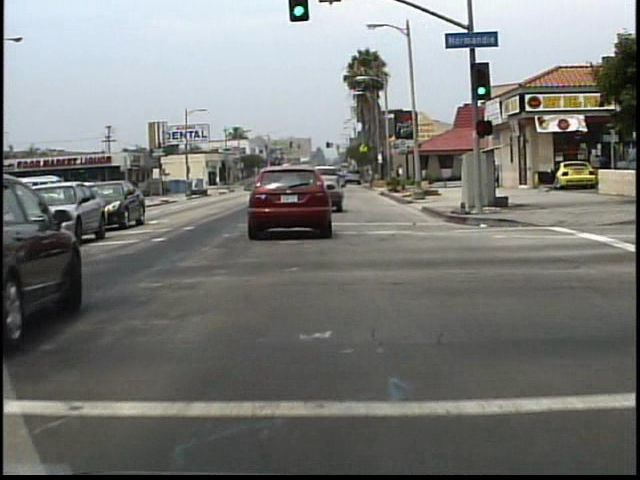person: (595, 150, 612, 195)
